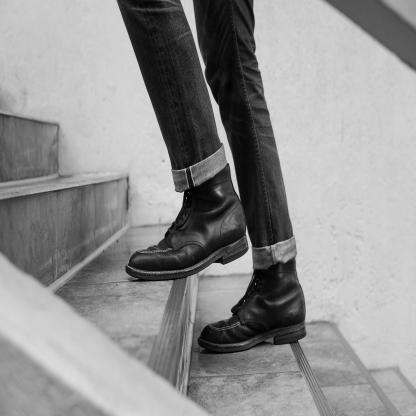ankle: (277, 283, 283, 290), (217, 196, 222, 201)
heel: (244, 242, 248, 248), (303, 329, 307, 333)
left_foot: (127, 194, 249, 281)
pinky: (147, 262, 151, 267), (208, 328, 211, 331)
right_foot: (198, 281, 308, 353)
toe: (218, 335, 222, 341), (134, 256, 137, 260)
